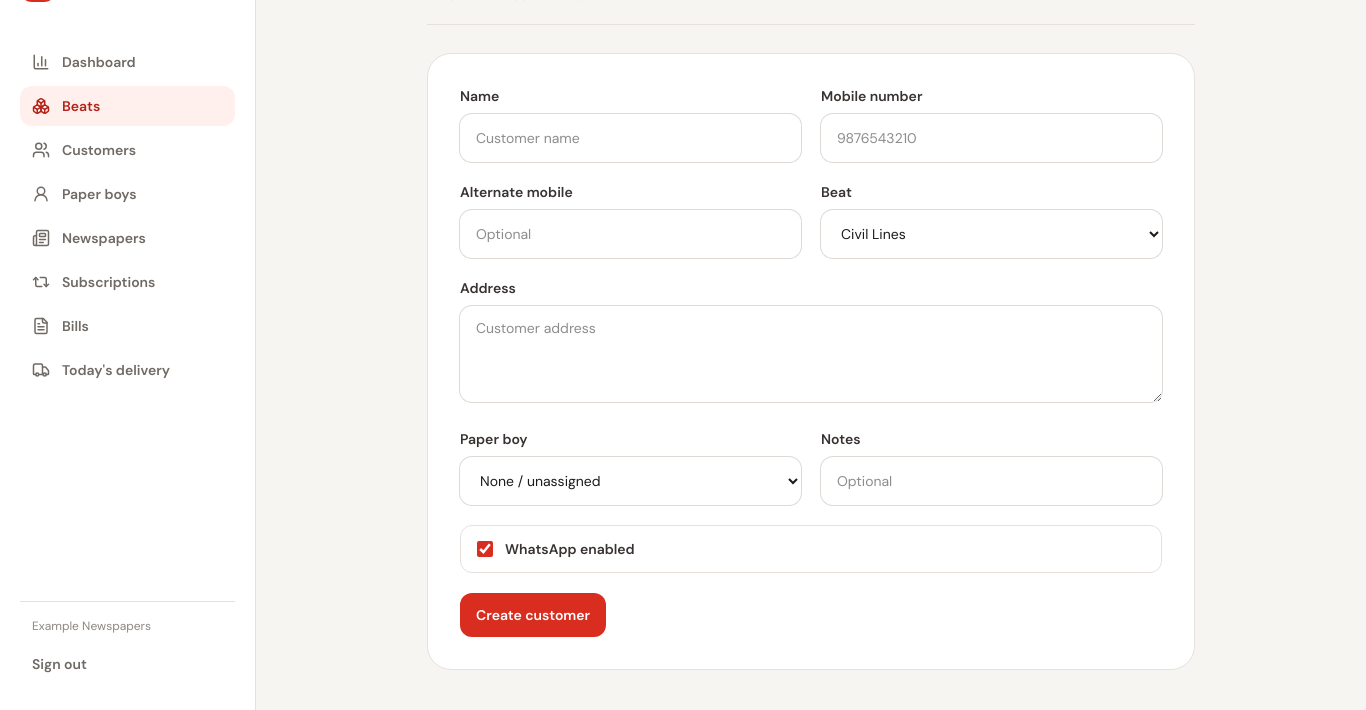
Phase 4 customer forms › validates required customer fields
(page scrolled)
Step 1. Click the button "Create customer" → (533, 615), box top-left (460, 593), bottom-right (606, 637)
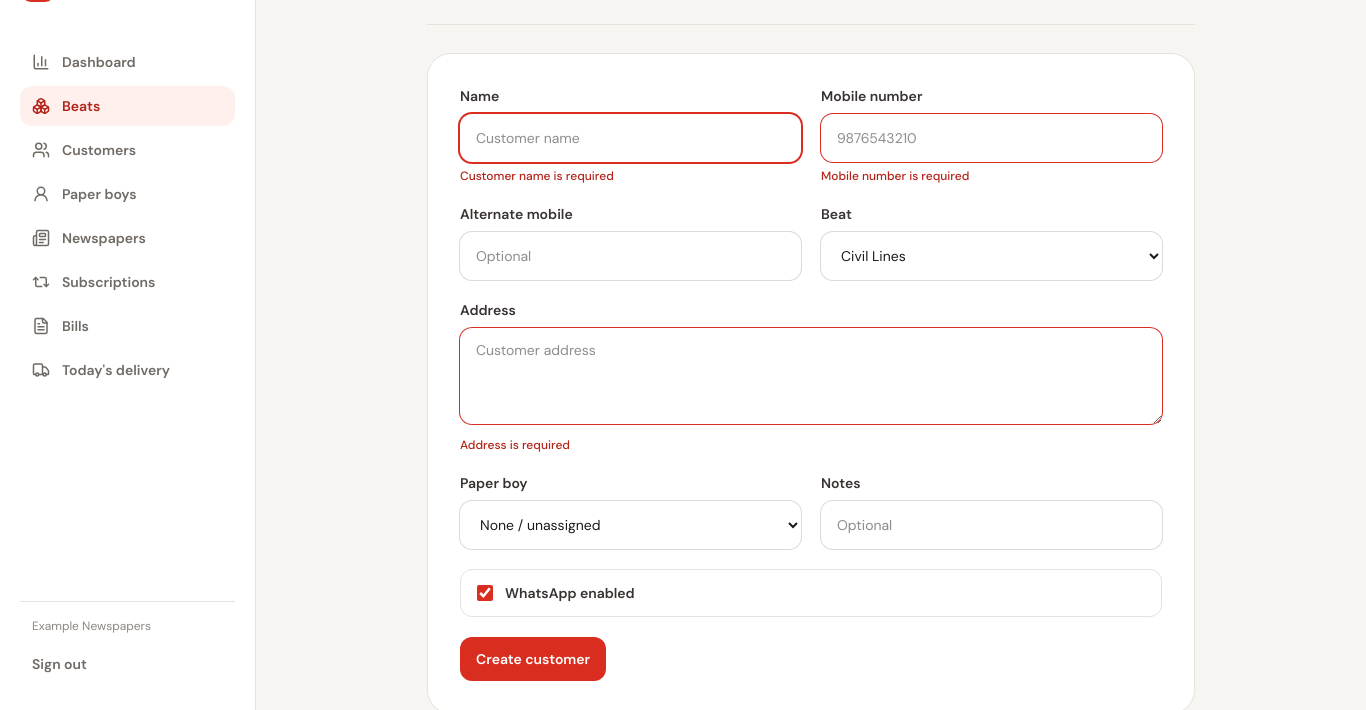
Now the text "Customer name is required" is shown, box top-left (460, 168), bottom-right (614, 184)
